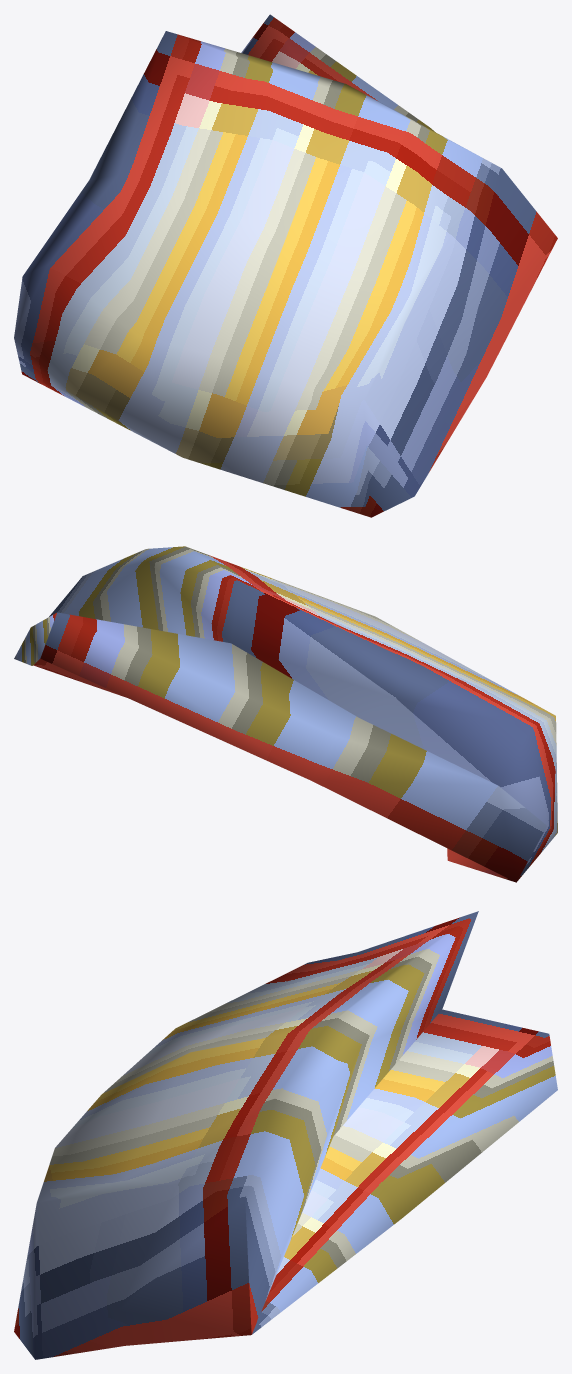
The model's file is fg_towel.dae.
3 renders of one model, top to bottom at view 1: azimuth 30°, elevation 25°; view 2: azimuth 150°, elevation 25°; view 3: azimuth 270°, elevation 25°, orthographic. The views are drawn at different scales.
Parts seen in each view (by area): view 1: fg_towel; view 2: fg_towel; view 3: fg_towel.
Part boxes in pixels (x1,y1,x2,y2): fg_towel: (14,14,557,517); fg_towel: (14,546,557,882); fg_towel: (14,911,557,1359).
Bounding box in the file's own units: 15.68 × 10.19 × 12.12.
1 material, 1 textured.
